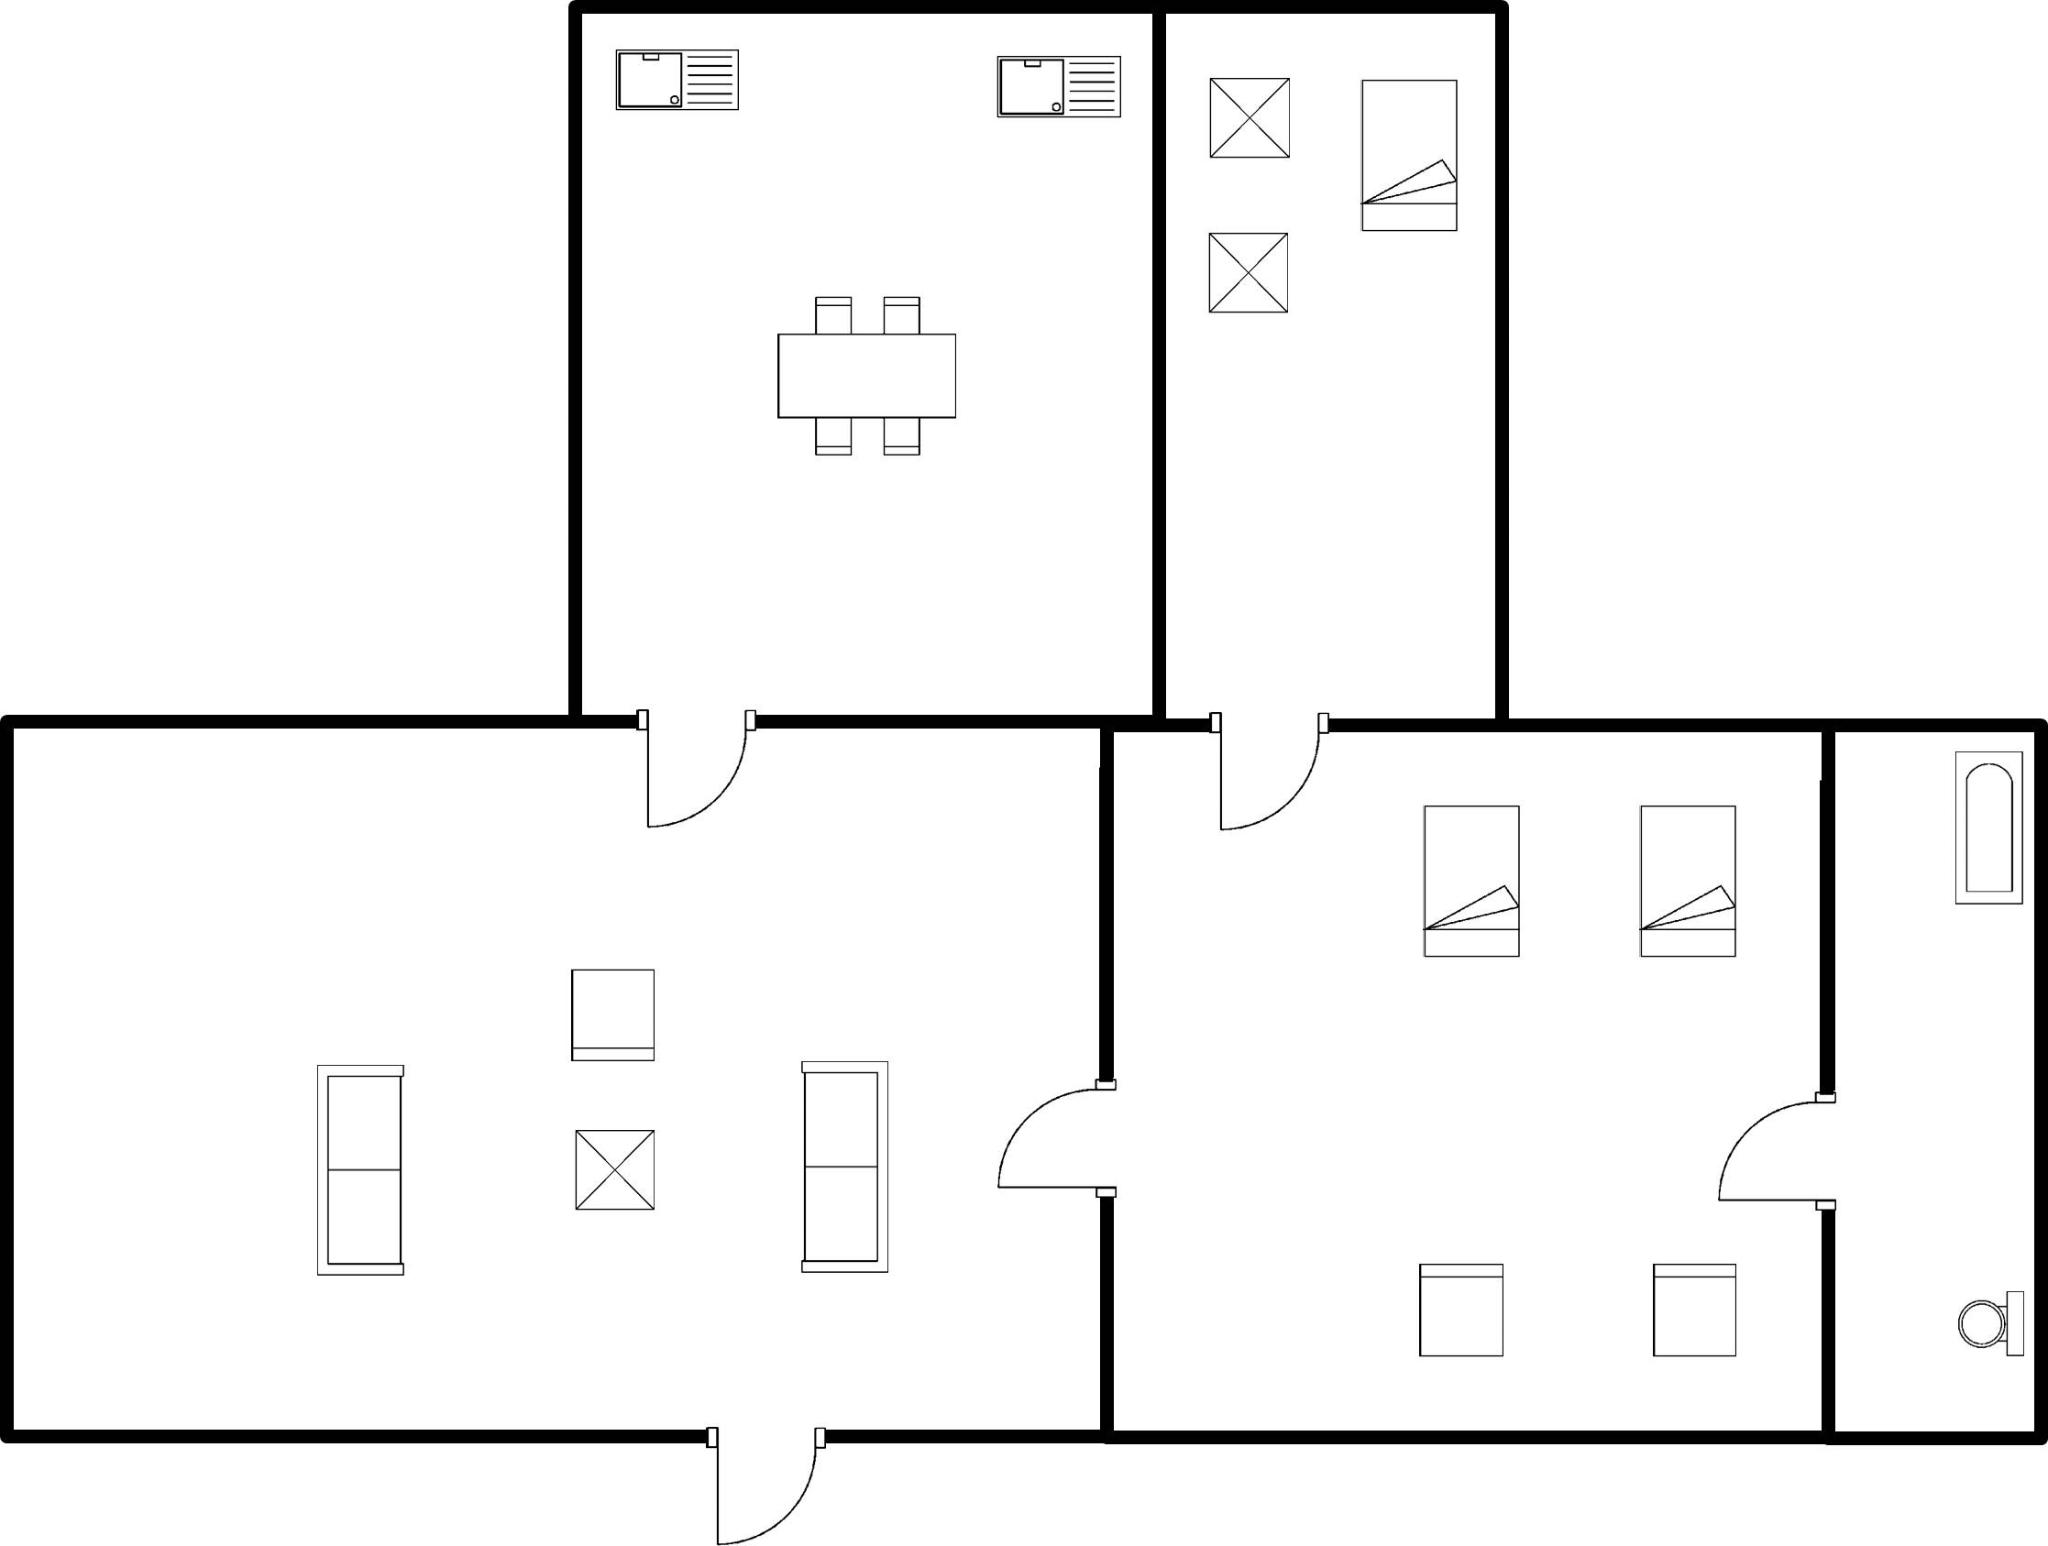bed: (1413, 791, 1530, 966), (1629, 794, 1746, 968), (1351, 65, 1467, 240)
dining_table: (762, 286, 966, 466)
sink: (604, 39, 749, 123), (991, 44, 1129, 128)
sofa: (781, 1051, 898, 1285), (304, 1056, 413, 1289)
toilet: (1944, 1278, 2032, 1364)
tub: (1942, 739, 2032, 921)
